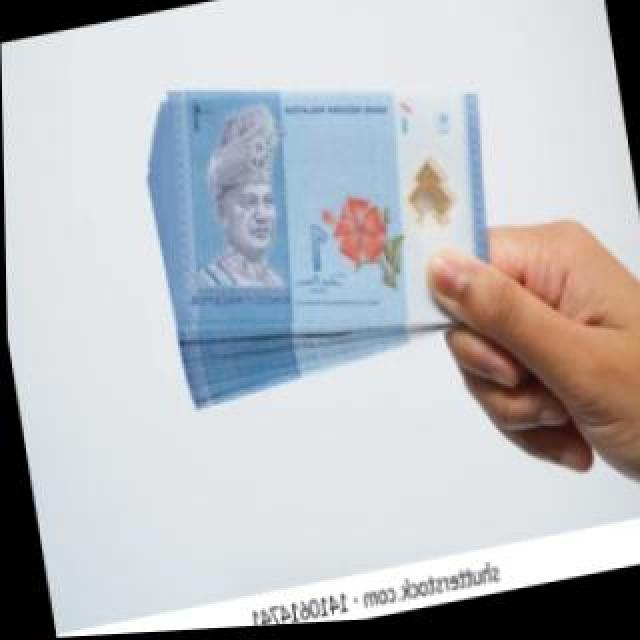1 Ringgit: (122, 26, 524, 388)
